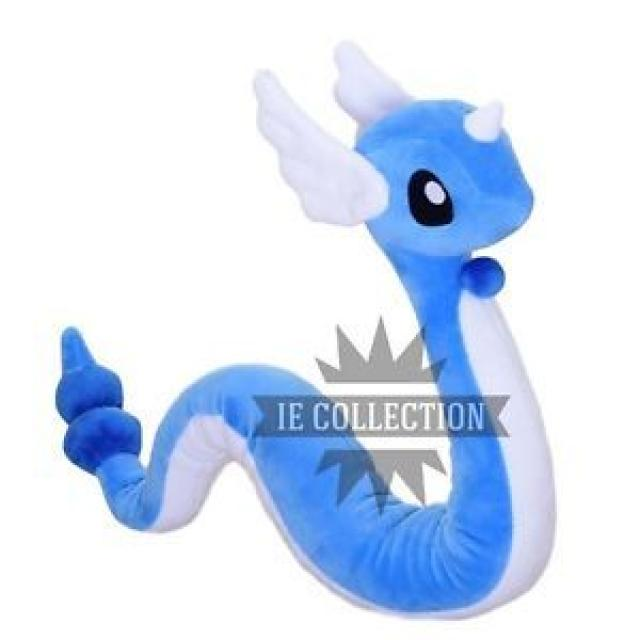Dragonair: (248, 45, 570, 624)
